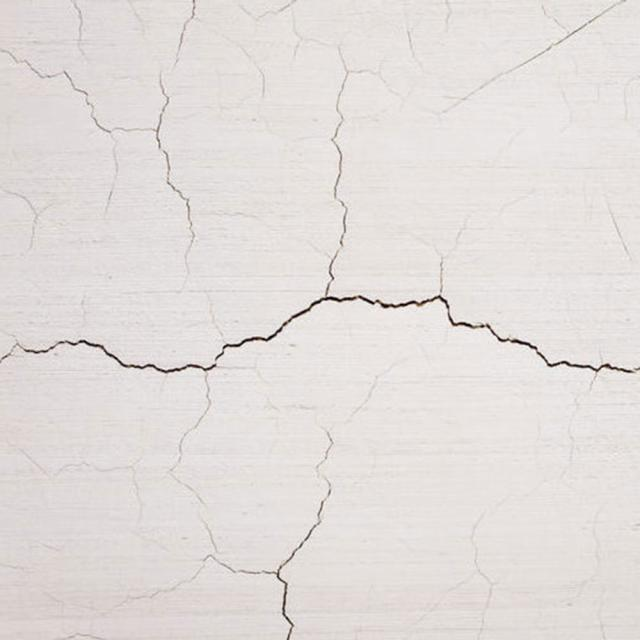Crack: (0, 2, 322, 264), (359, 0, 640, 272), (3, 265, 640, 373), (156, 379, 380, 640), (3, 427, 153, 540), (521, 483, 620, 640), (7, 552, 156, 640), (421, 497, 505, 640), (321, 43, 356, 265), (531, 382, 594, 476)
